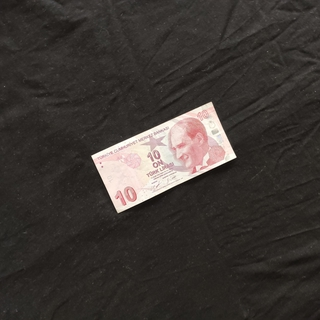10TLFront: (89, 99, 238, 215)
